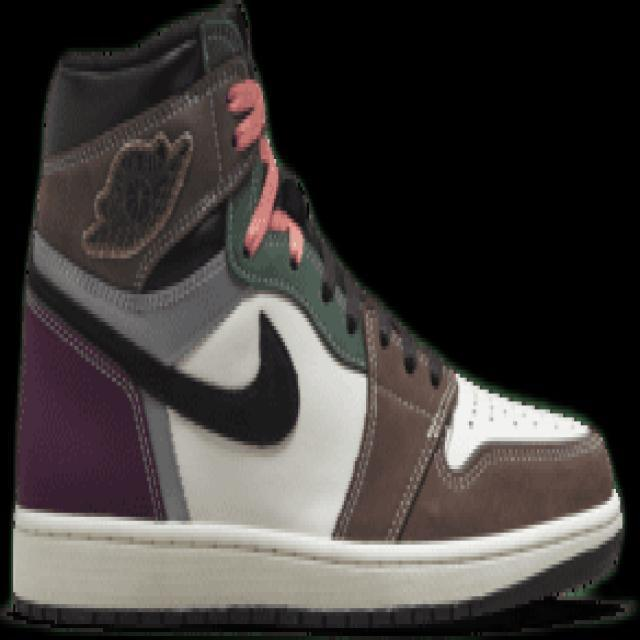J1_InsoleChar: (9, 3, 625, 626)
J1_ShoeLogo: (52, 55, 263, 293), (79, 126, 195, 261)
J1_StitchPattern: (10, 487, 625, 619), (331, 298, 600, 541), (25, 280, 168, 520), (330, 302, 459, 541), (46, 55, 253, 169), (444, 370, 598, 468), (383, 371, 459, 541), (330, 302, 383, 540), (298, 186, 368, 337), (439, 431, 605, 492), (311, 239, 366, 336), (375, 315, 447, 389)
